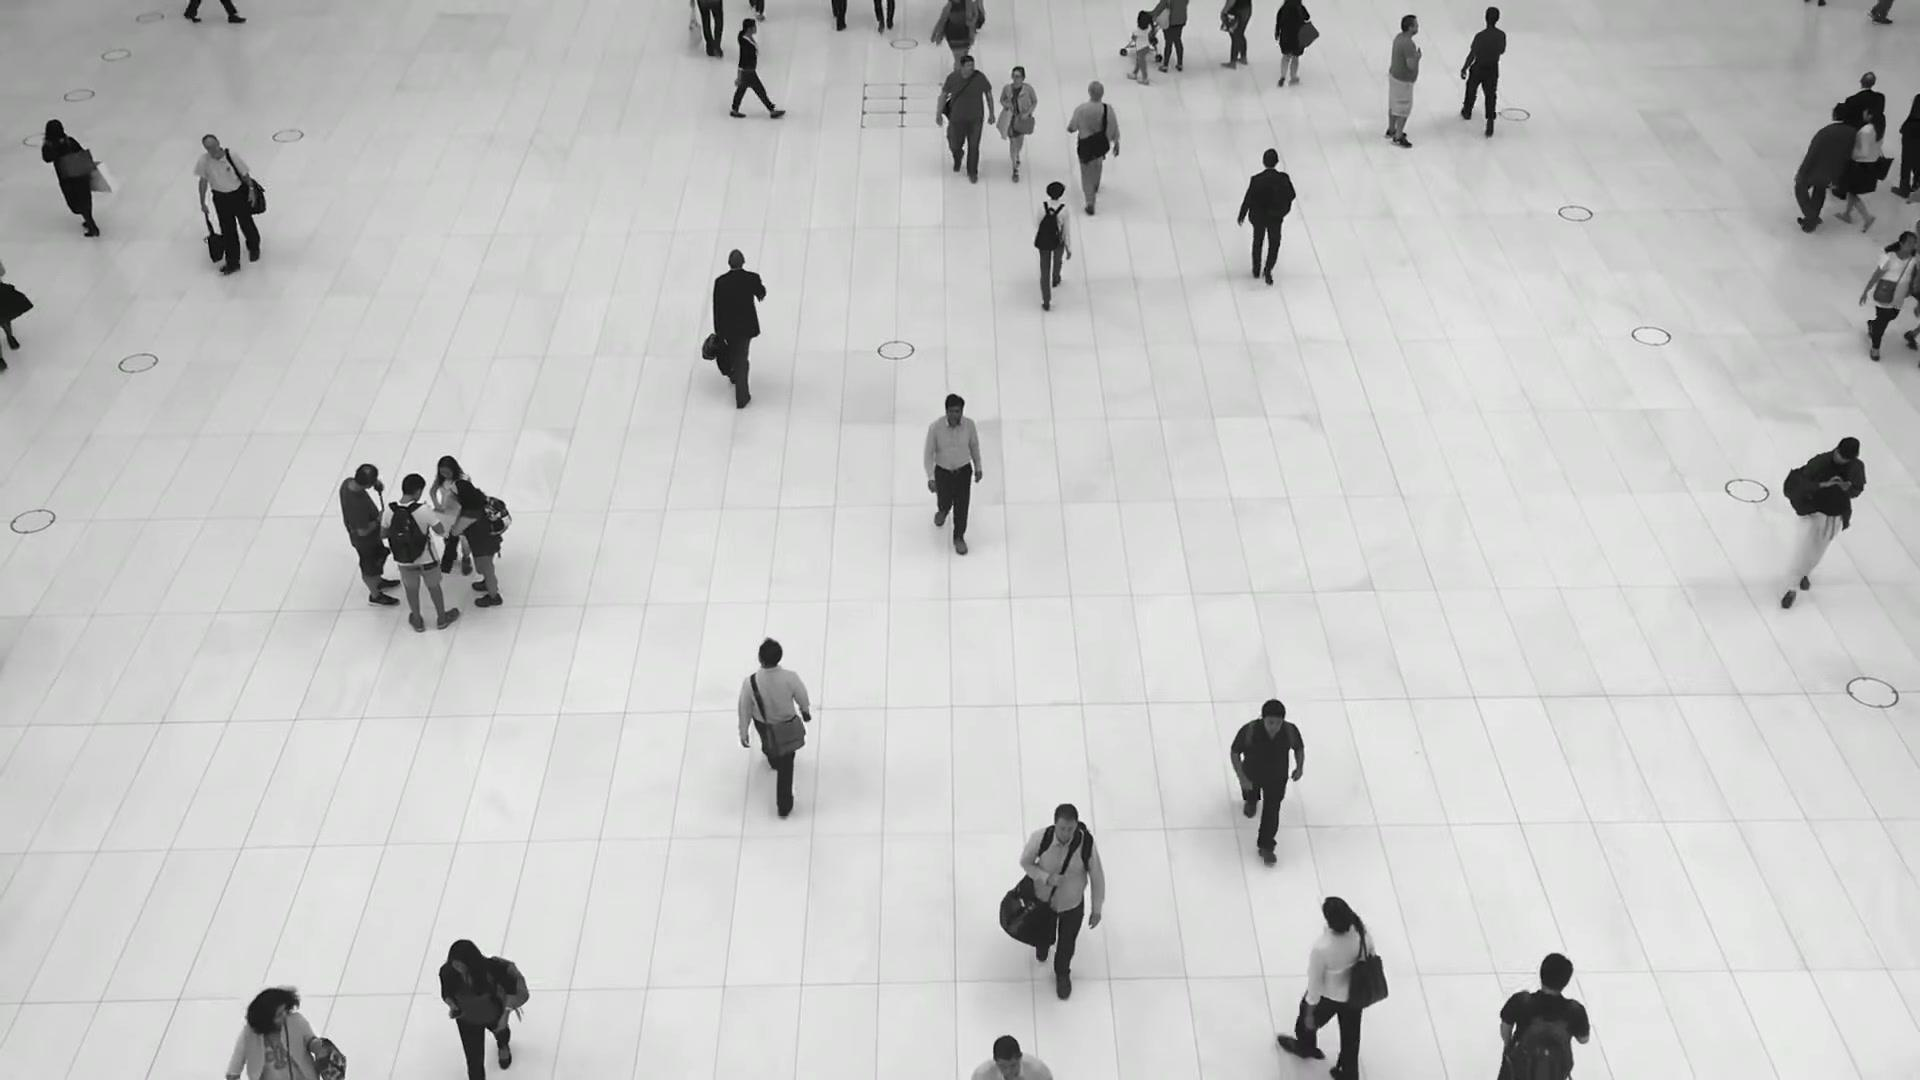person: (1270, 899, 1377, 1080), (1017, 805, 1104, 1025), (1781, 439, 1863, 613), (378, 476, 460, 636), (735, 636, 809, 802), (1226, 696, 1305, 846), (1495, 959, 1590, 1080), (919, 396, 985, 567), (1772, 108, 1854, 241), (435, 937, 514, 1075), (192, 136, 260, 276), (336, 464, 400, 609), (709, 250, 768, 409), (225, 987, 323, 1080), (1819, 106, 1884, 235), (1241, 152, 1297, 294), (933, 56, 992, 192), (1858, 231, 1917, 362), (39, 118, 100, 239), (1066, 79, 1121, 208), (449, 482, 501, 611), (1458, 5, 1508, 133), (1029, 179, 1074, 303), (427, 457, 469, 580), (1383, 15, 1421, 149), (996, 66, 1036, 178), (730, 16, 768, 121), (1267, 0, 1308, 94), (1130, 11, 1151, 86)
